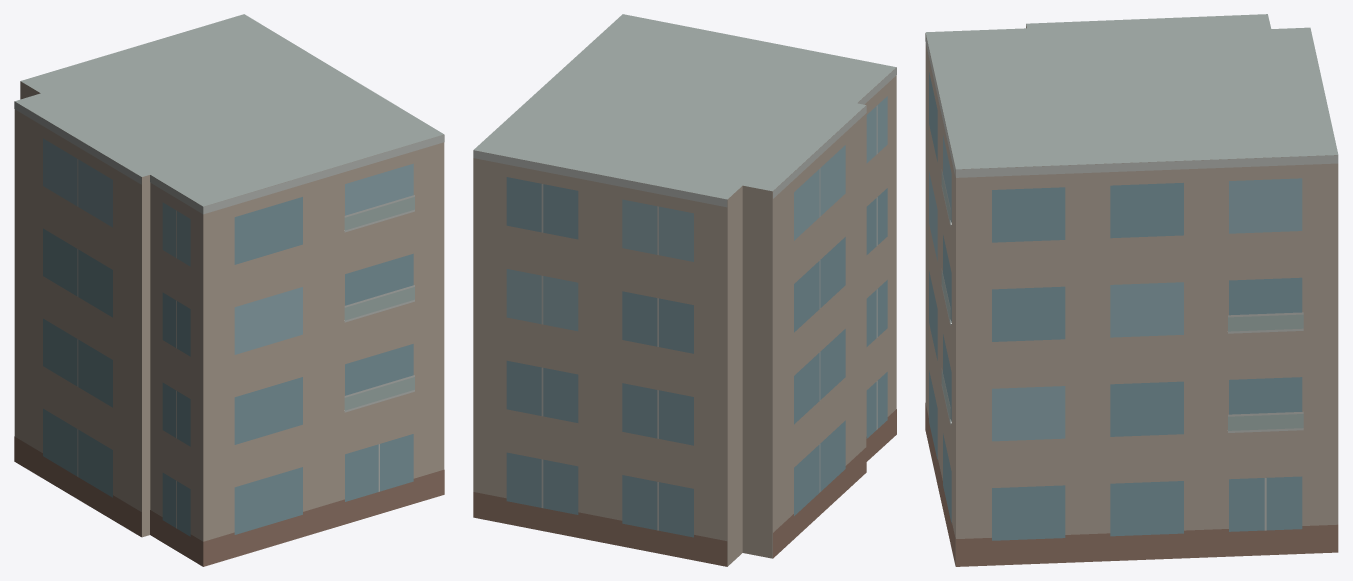
Rendered from survey-upis-32625556.glb.
3 renders of one model, left to right at view 1: azimuth 30°, elevation 25°; view 2: azimuth 150°, elevation 25°; view 3: azimuth 270°, elevation 25°, orthographic. The views are drawn at different scales.
Visible parts, largest first — view 1: survey-upis-32625556.tmp; view 2: survey-upis-32625556.tmp; view 3: survey-upis-32625556.tmp.
Boxes of the visible parts, <box> form: survey-upis-32625556.tmp: <box>14,14,444,566</box>; survey-upis-32625556.tmp: <box>473,14,896,566</box>; survey-upis-32625556.tmp: <box>925,14,1338,566</box>.
Bounding box in the file's own units: 9.48 × 11.3 × 10.65.
